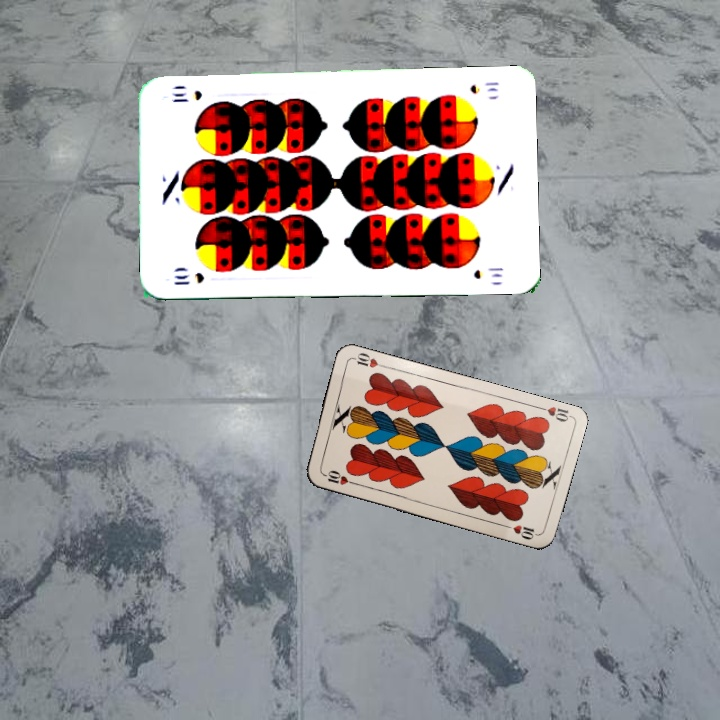H10: (533, 402, 573, 425), (318, 467, 358, 488)
S10: (170, 269, 207, 287), (466, 78, 501, 96)
